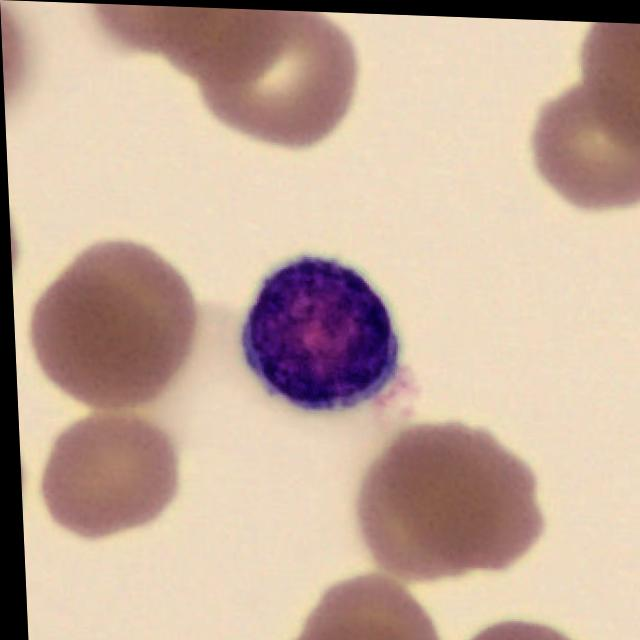Linfocito: (238, 253, 401, 411)
